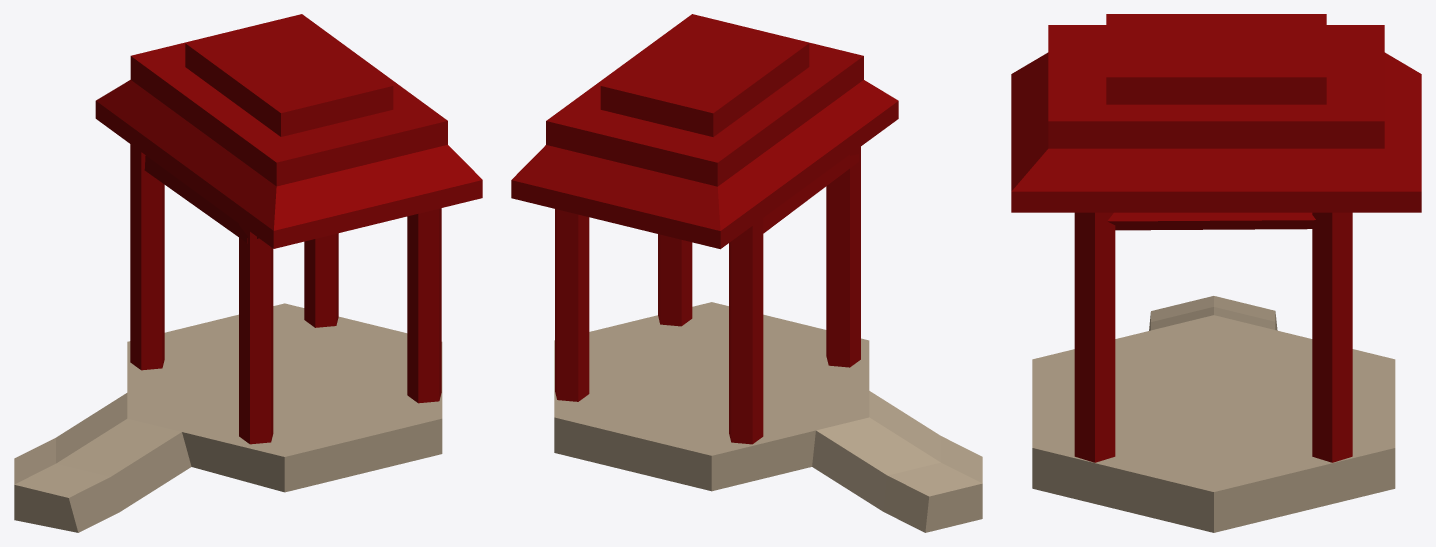
The model's file is dojo.fbx.
3 renders of one model, left to right at view 1: azimuth 30°, elevation 25°; view 2: azimuth 150°, elevation 25°; view 3: azimuth 270°, elevation 25°, orthographic. The views are drawn at different scales.
Parts seen in each view (by area): view 1: pCylinder10; view 2: pCylinder10; view 3: pCylinder10.
Part boxes in pixels (x1,y1,x2,y2): pCylinder10: [14, 14, 482, 532]; pCylinder10: [511, 14, 982, 532]; pCylinder10: [1011, 14, 1421, 532].
Bounding box in the file's own units: 15.74 × 13.61 × 11.34.
